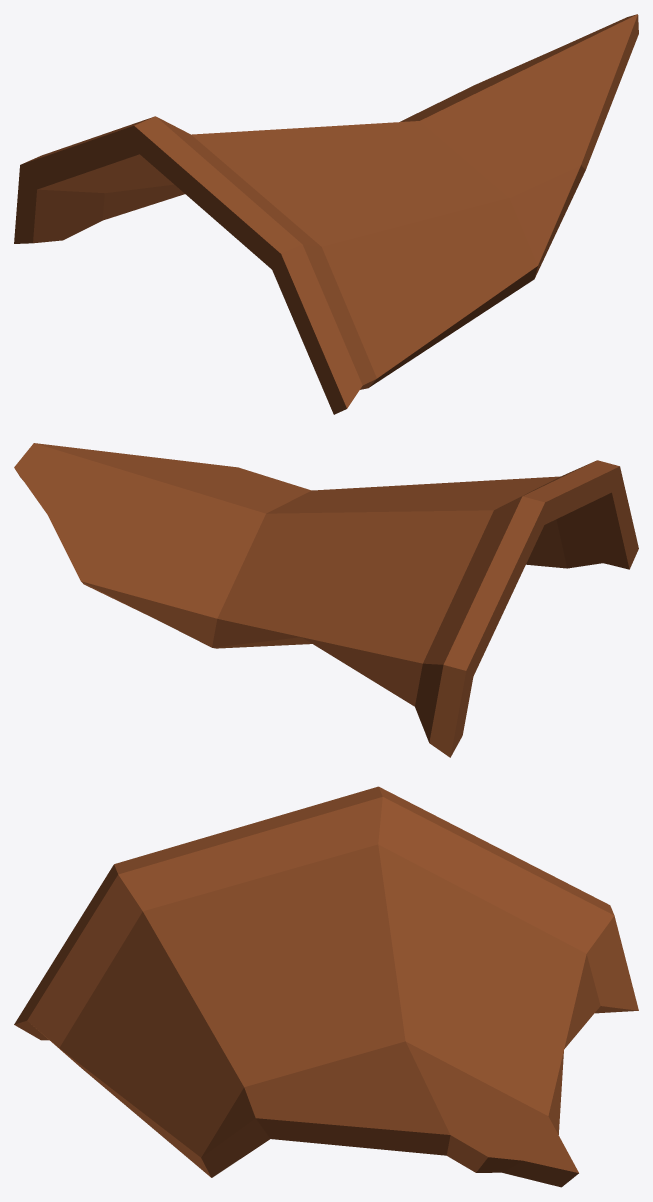
Rendered from Collin_BrokenVase_004_Piece_002.fbx.
The picture shows the model from 3 angles, top to bottom: view 1: azimuth 30°, elevation 25°; view 2: azimuth 150°, elevation 25°; view 3: azimuth 270°, elevation 25°; orthographic projection. The views are drawn at different scales.
Visible parts, largest first — view 1: Broken_Vase_002_BrokenPiece_002; view 2: Broken_Vase_002_BrokenPiece_002; view 3: Broken_Vase_002_BrokenPiece_002.
Boxes of the visible parts, box(x1,y1,x2,y2) form: Broken_Vase_002_BrokenPiece_002: box(14, 14, 638, 414); Broken_Vase_002_BrokenPiece_002: box(14, 443, 638, 757); Broken_Vase_002_BrokenPiece_002: box(14, 786, 638, 1187).
Bounding box in the file's own units: 18.46 × 6.41 × 15.68.
Materials: 1 (1 with a texture image).
